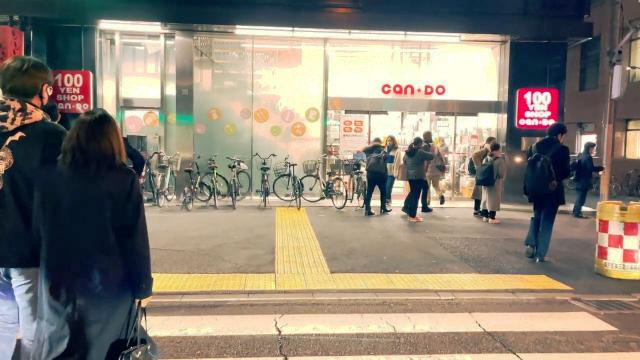berdiri: (463, 138, 505, 226), (568, 136, 608, 220)
berjalan: (30, 98, 158, 360), (522, 114, 568, 270)
